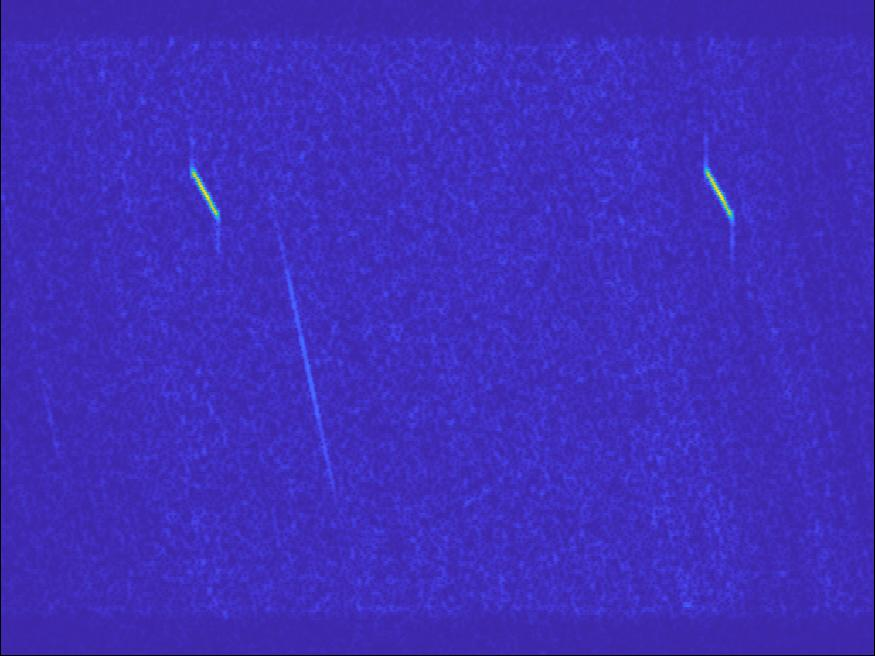Interference: (287, 217, 502, 372), (291, 506, 494, 654), (794, 299, 875, 350), (100, 26, 187, 69)
